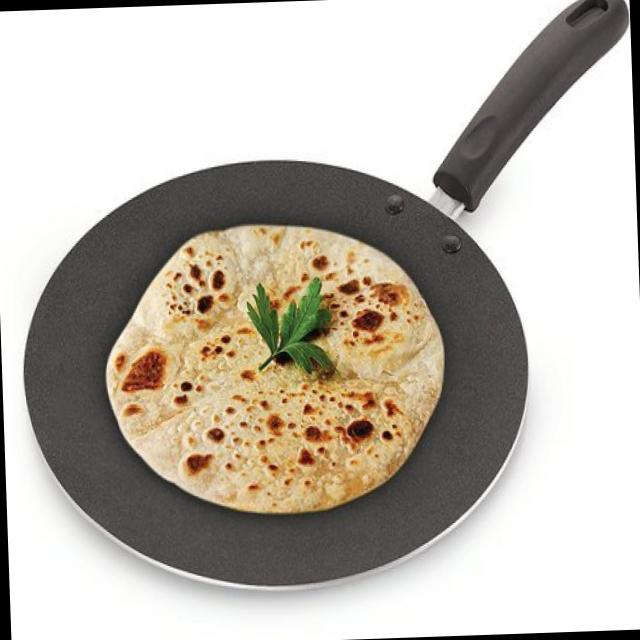roti: (103, 216, 443, 517)
